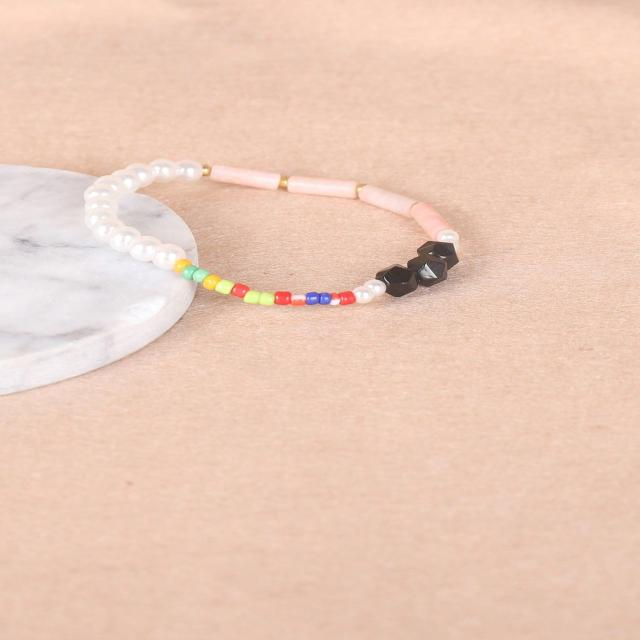bracelet: (61, 107, 504, 361)
